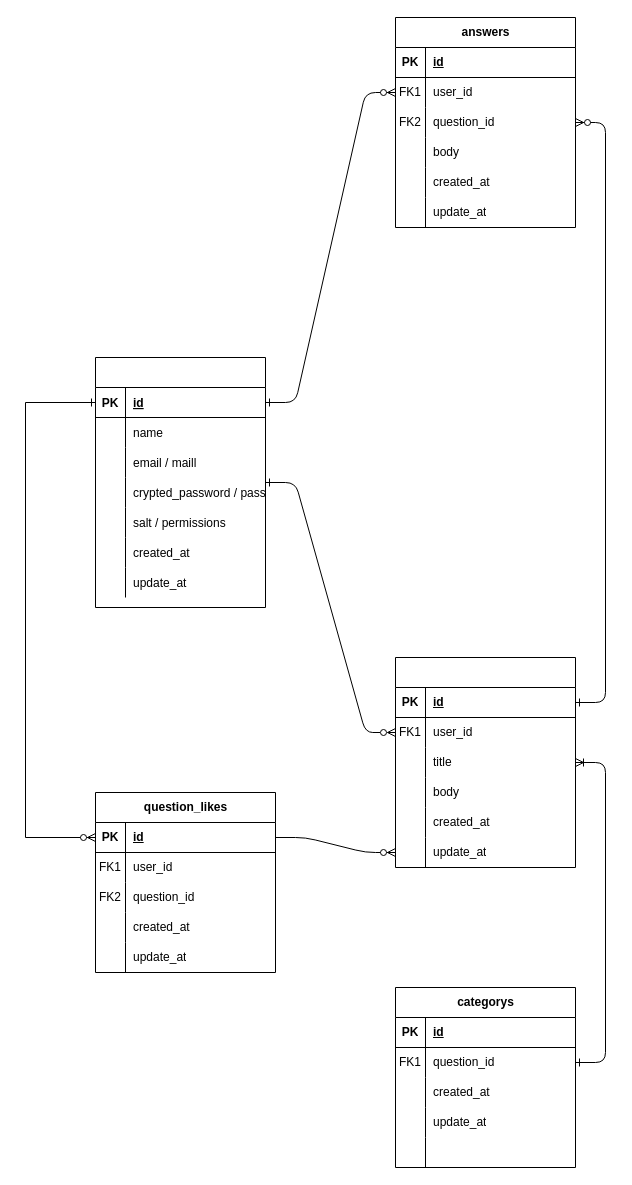
Image size: 632x1185. Some labels were removed from this diagram. Here are the shapes that lost their labels. From the top down, the box of each, then its label:
(94, 356, 266, 608): users
(394, 656, 576, 868): questions
